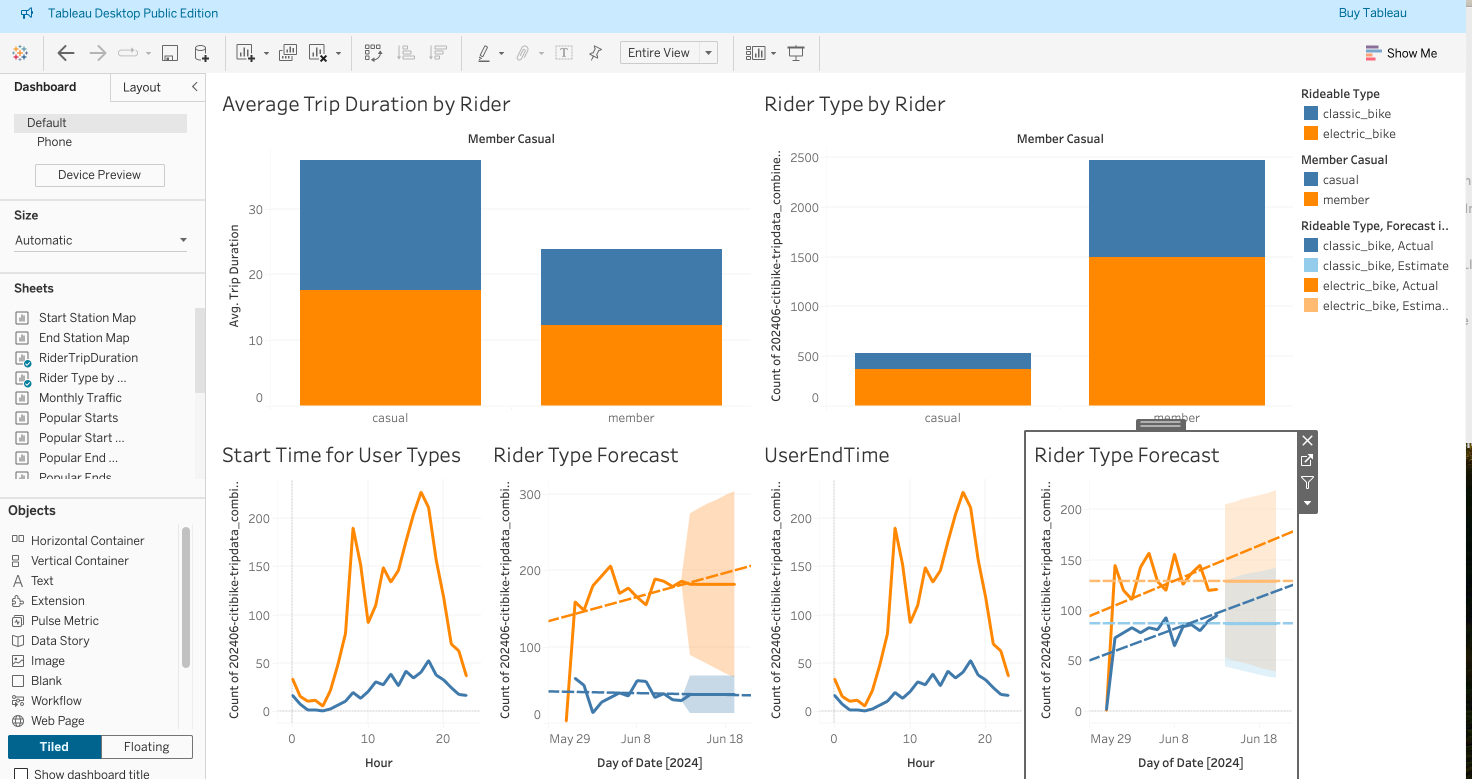

This screenshot's page, from the dashboard's own definition file:
{"tool":"tableau","page":{"name":"Riders Dashboard","canvas":[1000,1000],"units":"permille","ordinal":0},"visuals":[{"type":"worksheet","title":"RiderTripDuration","mark":"Automatic","rows":["Calculation_137993130189844484"],"cols":["member_casual"],"box":[6.4,11.2,429.2,488.8]},{"type":"worksheet","title":"Rider Type by Rider","mark":"Automatic","rows":["202406-citibike-tripdata_combined.csv_EEC1912C554F43D4A937E6"],"cols":["member_casual"],"box":[435.6,11.2,429.2,488.8]},{"type":"legend","title":"RiderTripDuration","param":"[federated.1eug51w1a7snwj1688t5202lmfl5].[none:rideable_type:nk]","box":[864.8,11.2,128.7,92]},{"type":"legend","title":"UserStartTime","param":"[federated.1eug51w1a7snwj1688t5202lmfl5].[none:member_casual:nk]","box":[864.8,103.2,128.7,92]},{"type":"legend","title":"RidertType Forcecast","param":"[federated.1eug51w1a7snwj1688t5202lmfl5].[none:rideable_type:nk]\n[federated.1eug","box":[864.8,195.3,128.7,147.8]},{"type":"worksheet","title":"UserStartTime","mark":"Automatic","rows":["202406-citibike-tripdata_combined.csv_EEC1912C554F43D4A937E6"],"cols":["Calculation_137993130186854403"],"box":[6.4,500,214.6,488.8]},{"type":"worksheet","title":"Rider Forcecast","mark":"Automatic","rows":["202406-citibike-tripdata_combined.csv_EEC1912C554F43D4A937E6"],"cols":["Calculation_210050724253642752"],"box":[221,500,214.6,488.8]},{"type":"worksheet","title":"UserEndTime","mark":"Automatic","rows":["202406-citibike-tripdata_combined.csv_EEC1912C554F43D4A937E6"],"cols":["Calculation_137993130186854403"],"box":[435.6,500,214.6,488.8]},{"type":"worksheet","title":"RidertType Forcecast","mark":"Automatic","rows":["202406-citibike-tripdata_combined.csv_EEC1912C554F43D4A937E6"],"cols":["Calculation_210050724253642752"],"box":[650.2,500,214.6,488.8]}]}

Visuals, with their boxes on the dashboard's canvas, which has no fixed pixel size, in thousandths of its width and height (x1, y1, x2, y2). These are canvas units, not pixel positions in the 1472x779 screenshot, which may show the page scaled, cropped or inside an application window:
"RiderTripDuration" worksheet: [x1=6, y1=11, x2=436, y2=500]
"Rider Type by Rider" worksheet: [x1=436, y1=11, x2=865, y2=500]
"RiderTripDuration" legend: [x1=865, y1=11, x2=994, y2=103]
"UserStartTime" legend: [x1=865, y1=103, x2=994, y2=195]
"RidertType Forcecast" legend: [x1=865, y1=195, x2=994, y2=343]
"UserStartTime" worksheet: [x1=6, y1=500, x2=221, y2=989]
"Rider Forcecast" worksheet: [x1=221, y1=500, x2=436, y2=989]
"UserEndTime" worksheet: [x1=436, y1=500, x2=650, y2=989]
"RidertType Forcecast" worksheet: [x1=650, y1=500, x2=865, y2=989]
